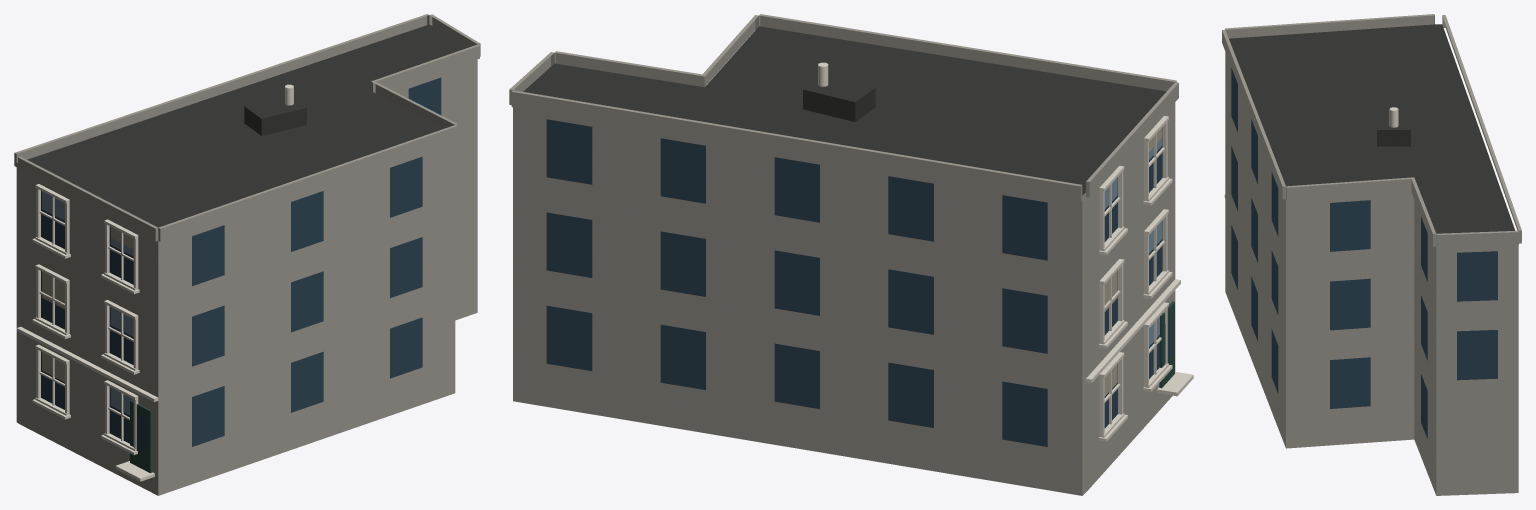
3 views of the same model, side by side, from view 1: azimuth 30°, elevation 25°; view 2: azimuth 150°, elevation 25°; view 3: azimuth 270°, elevation 25° (orthographic). The views are drawn at different scales.
Visible parts, largest first — view 1: Footprint 0 / surface 2, Footprint 0 / surface 1, Inset glazing, Facade bay volumes, Cornices and window frames, Sky reflection panels, Interior blind variation, Storefronts and doors, Inferred rooftop service enclosure / surface 5, Inferred rooftop service enclosure / surface 3; view 2: Footprint 0 / surface 2, Footprint 0 / surface 1, Inset glazing, Facade bay volumes, Cornices and window frames, Inferred rooftop service enclosure / surface 6, Inferred rooftop service enclosure / surface 3, Storefronts and doors, Sky reflection panels; view 3: Footprint 0 / surface 2, Footprint 0 / surface 1, Inset glazing, Facade bay volumes, Inferred rooftop service enclosure / surface 3, Inferred rooftop service enclosure / surface 1.
Part boxes in pixels (x1,y1,x2,y2): Footprint 0 / surface 2: (16,59,477,495); Footprint 0 / surface 1: (17,24,467,227); Inset glazing: (41,77,441,451); Facade bay volumes: (14,14,480,241); Cornices and window frames: (16,184,158,481); Sky reflection panels: (42,191,133,415); Interior blind variation: (42,227,133,382); Storefronts and doors: (130,400,152,473); Inferred rooftop service enclosure / surface 5: (261,108,306,135); Inferred rooftop service enclosure / surface 3: (244,96,306,118); Footprint 0 / surface 2: (513,102,1175,495); Footprint 0 / surface 1: (523,26,1166,195); Inset glazing: (546,119,1172,446); Facade bay volumes: (509,14,1178,201); Cornices and window frames: (1086,116,1193,441); Inferred rooftop service enclosure / surface 6: (803,89,855,121); Inferred rooftop service enclosure / surface 3: (803,76,875,102); Storefronts and doors: (1159,301,1174,388); Sky reflection panels: (1104,138,1162,346); Footprint 0 / surface 2: (1225,52,1518,495); Footprint 0 / surface 1: (1229,24,1515,233); Inset glazing: (1231,68,1497,438); Facade bay volumes: (1222,14,1521,247); Inferred rooftop service enclosure / surface 3: (1377,108,1410,129); Inferred rooftop service enclosure / surface 1: (1377,130,1410,146).
Bounding box in the file's own units: 18.47 × 11.13 × 10.55.
